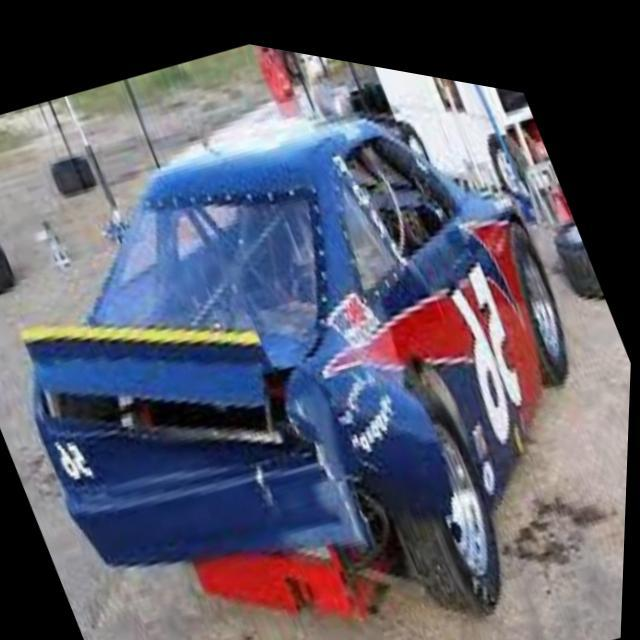dislocated part: (141, 337, 450, 575)
